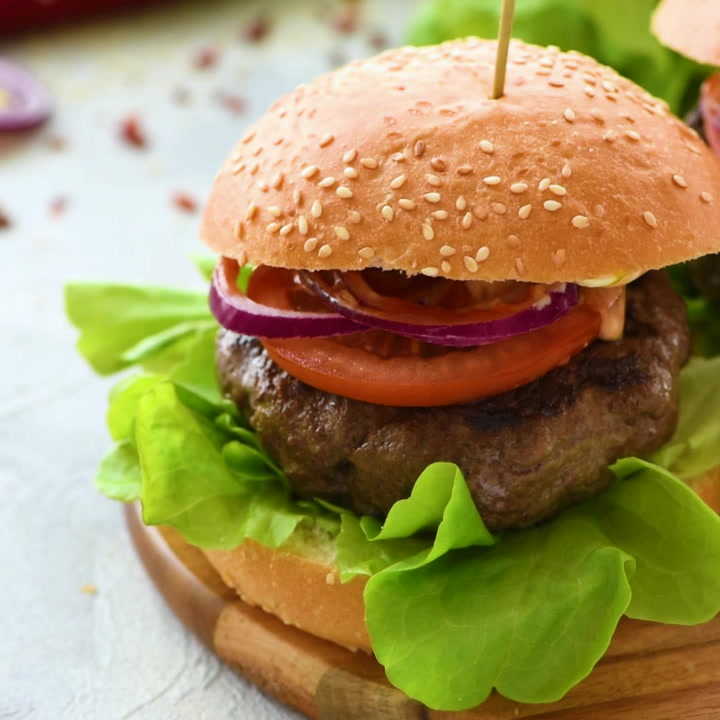hamburger_buns: (185, 22, 720, 292)
